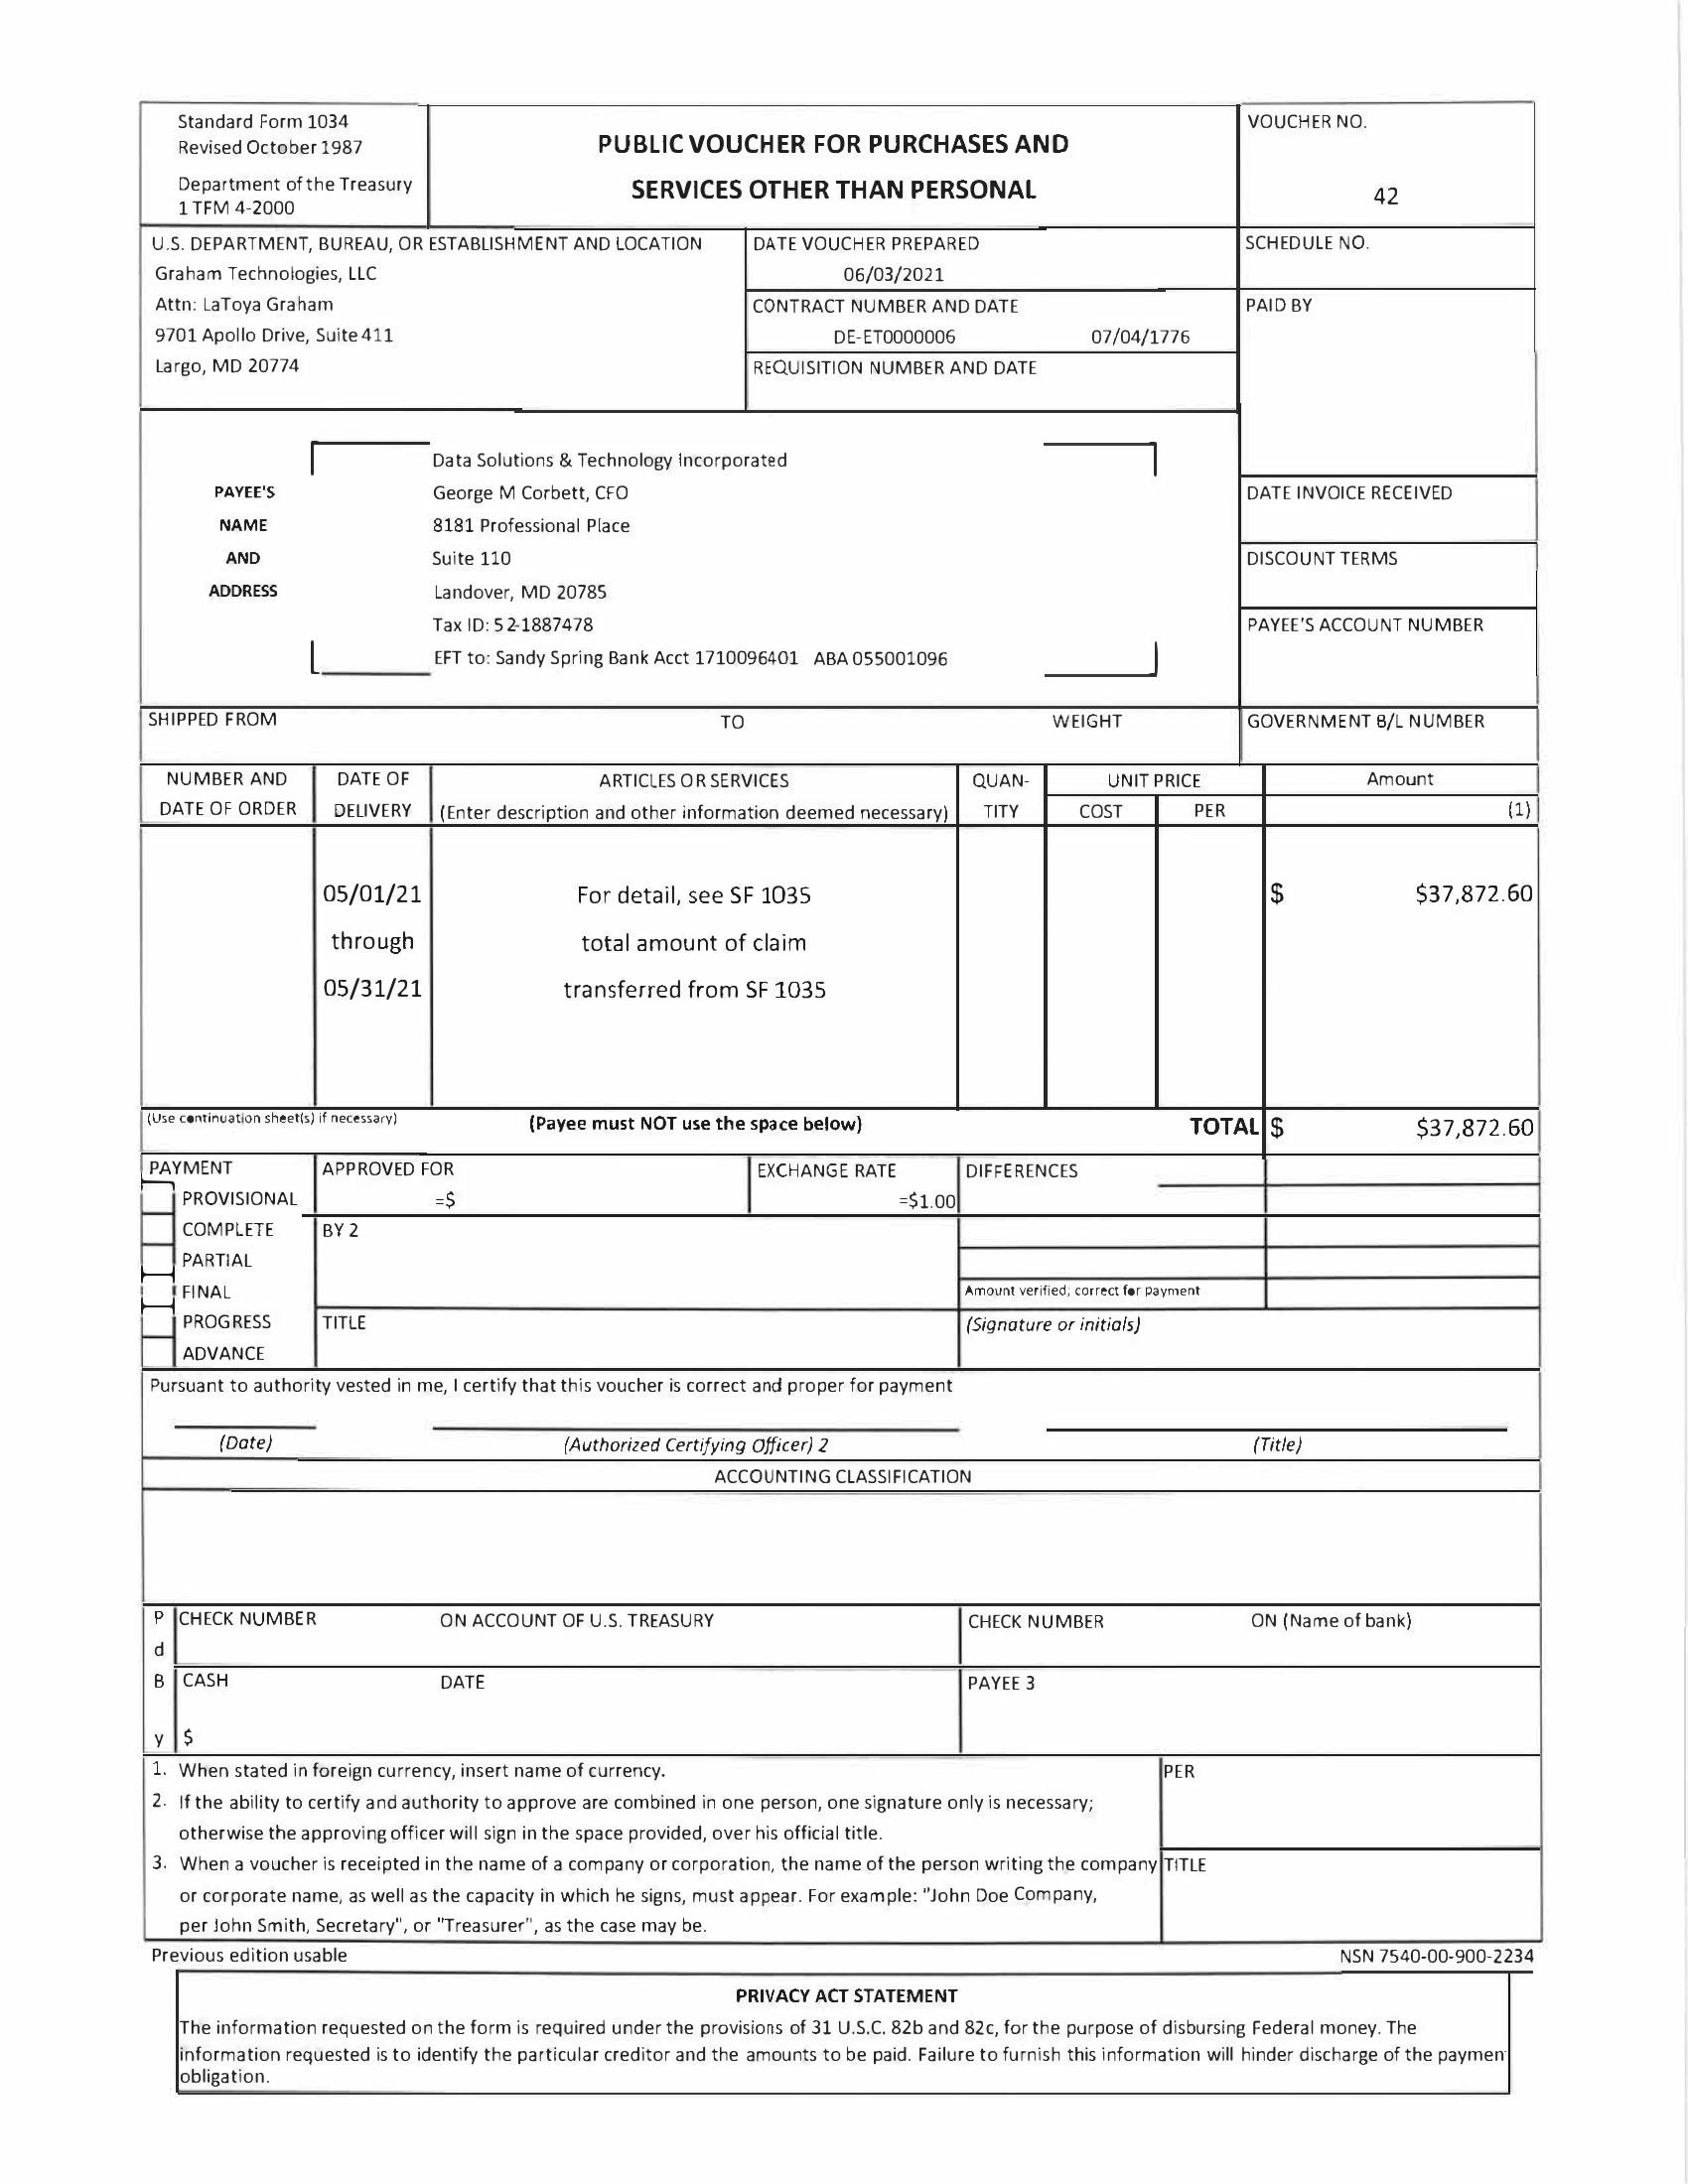table: (133, 750, 1548, 1104)
